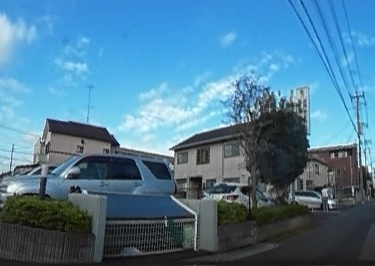person: (320, 182, 329, 210)
